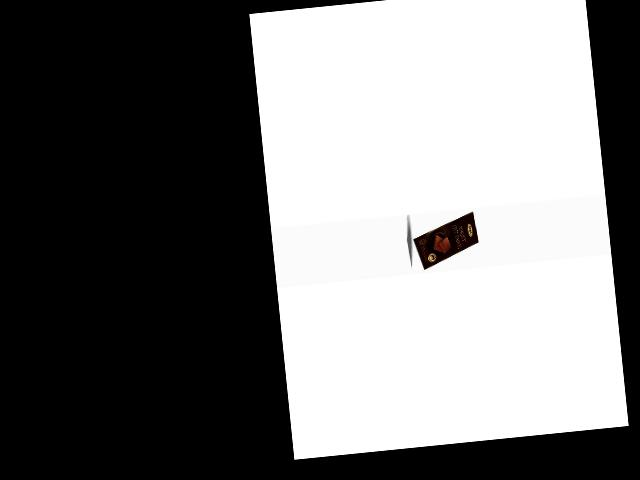chocolate: (408, 210, 481, 272)
